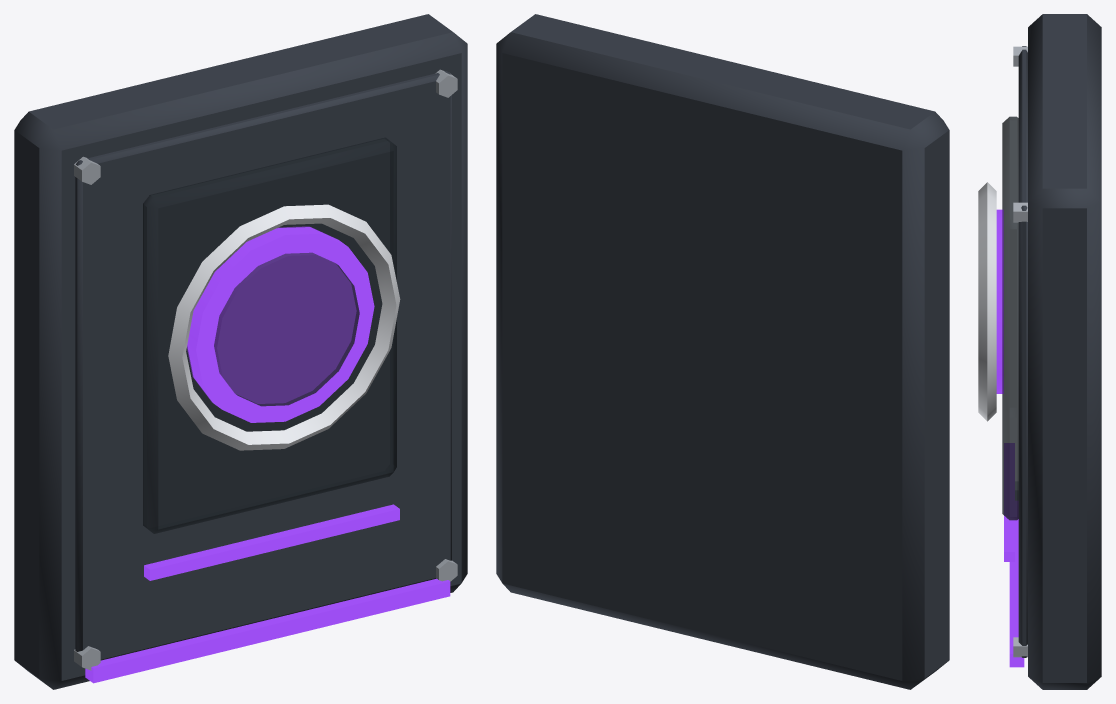
Rendered from controlpanel_biometric_scanner.glb.
3 renders of one model, left to right at view 1: azimuth 30°, elevation 25°; view 2: azimuth 150°, elevation 25°; view 3: azimuth 270°, elevation 25°, orthographic. The views are drawn at different scales.
Visible parts, largest first — view 1: controlpanel_biometric_scanner; view 2: controlpanel_biometric_scanner; view 3: controlpanel_biometric_scanner.
Boxes of the visible parts, left/top/right/bottom form: controlpanel_biometric_scanner: left=14, top=14, right=467, bottom=689; controlpanel_biometric_scanner: left=496, top=14, right=949, bottom=689; controlpanel_biometric_scanner: left=978, top=14, right=1101, bottom=689.
Size of the model in its own units: 0.24 by 0.3 by 0.067.
